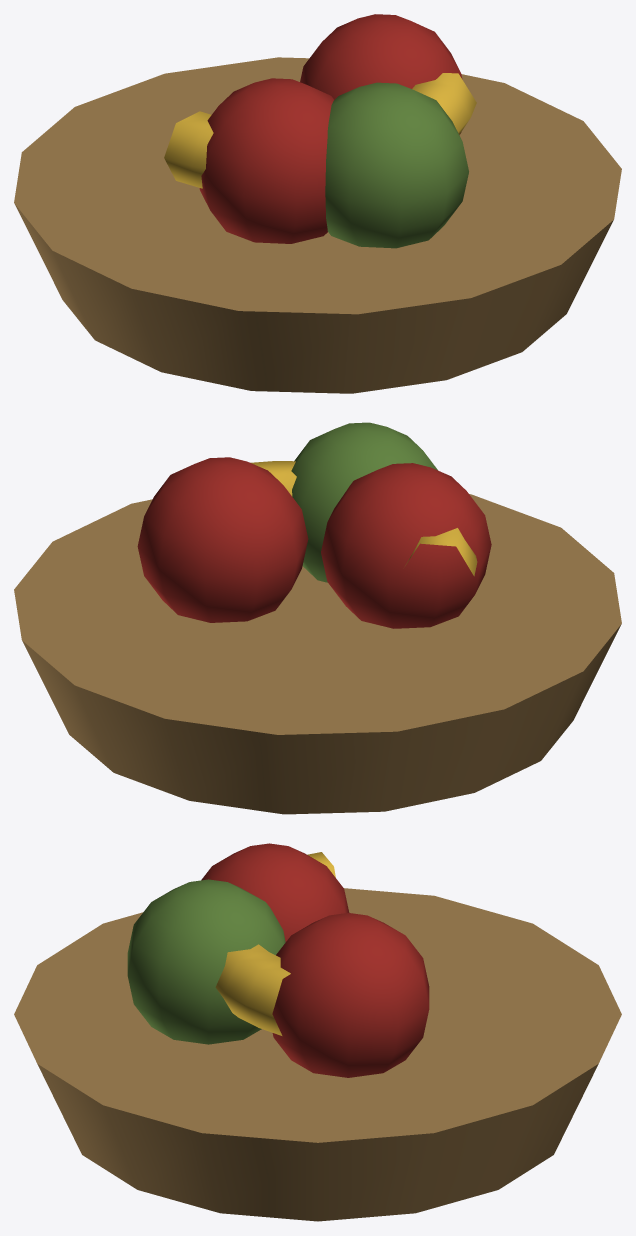
Rendered from apples-look-fine-banana.glb.
3 views of the same model, one above another, from view 1: azimuth 30°, elevation 25°; view 2: azimuth 150°, elevation 25°; view 3: azimuth 270°, elevation 25° (orthographic).
Bounding box in the file's own units: 1 × 0.42 × 1.
